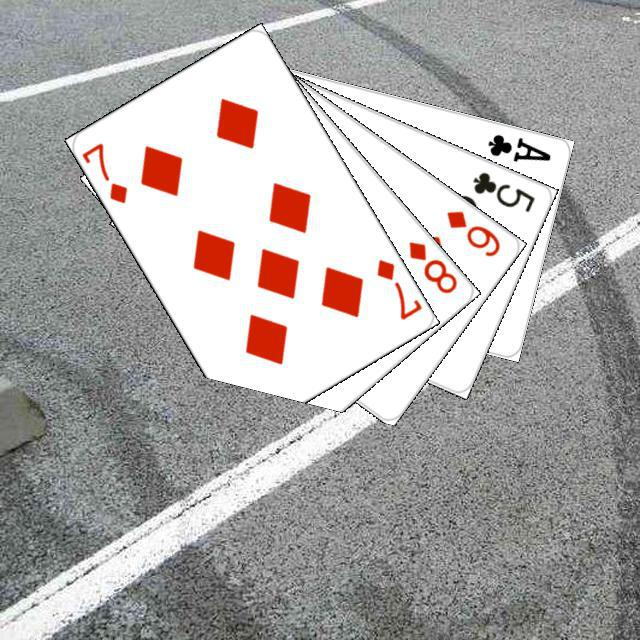5c: (467, 167, 537, 214)
6d: (441, 205, 502, 259)
7d: (78, 137, 129, 206), (371, 254, 422, 322)
8d: (403, 236, 459, 296)
Ac: (482, 129, 553, 164)
